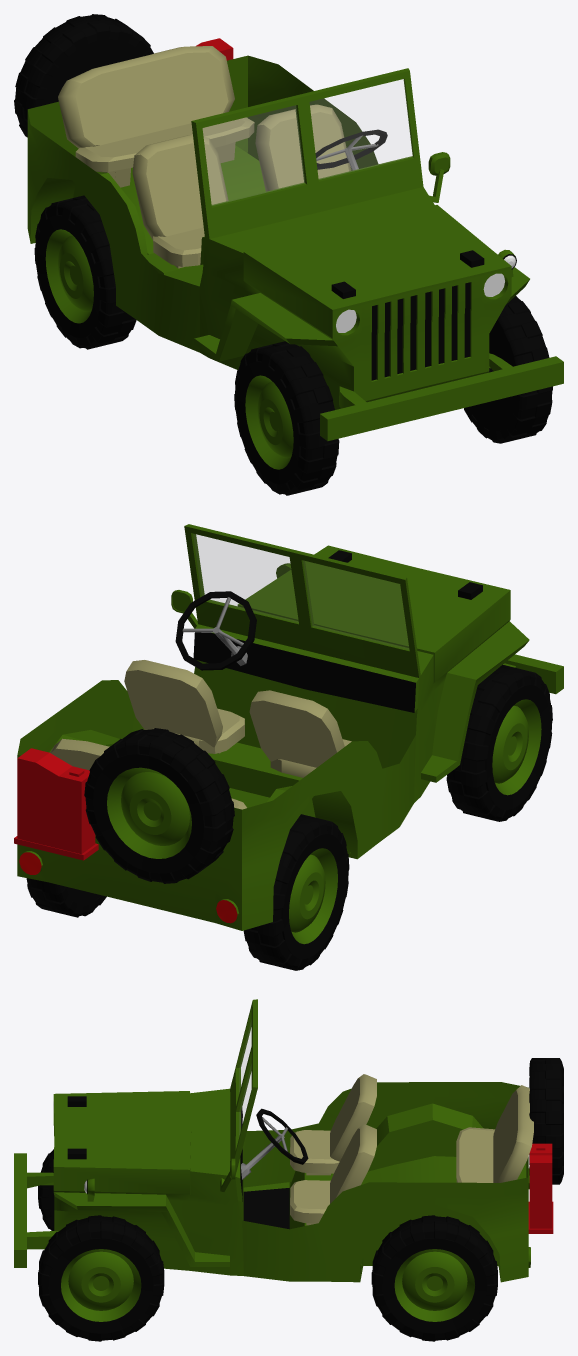
The model's file is Willys military.2.fbx.
3 views of the same model, one above another, from view 1: azimuth 30°, elevation 25°; view 2: azimuth 150°, elevation 25°; view 3: azimuth 270°, elevation 25° (orthographic). The views are drawn at different scales.
Visible parts, largest first — view 1: body, chair back, glass, chairs front, front wheels right, back wheels right, back wheel, front wheels left, car wheel, mirror; view 2: body, back wheel, chairs front, glass, front wheels right, back wheels right, canister, car wheel, back wheels left, chair back; view 3: body, back wheels left, front wheels left, chairs front, chair back, back wheel, canister, car wheel, front wheels right, glass.
Boxes of the visible parts, left/top/right/bottom form: body: left=27, top=55, right=563, bottom=441; chair back: left=58, top=46, right=254, bottom=187; glass: left=203, top=79, right=412, bottom=205; chairs front: left=132, top=104, right=351, bottom=268; front wheels right: left=234, top=341, right=339, bottom=495; back wheels right: left=34, top=195, right=136, bottom=349; back wheel: left=14, top=14, right=153, bottom=137; front wheels left: left=464, top=296, right=552, bottom=443; car wheel: left=315, top=129, right=387, bottom=170; mirror: left=428, top=152, right=450, bottom=202; body: left=17, top=524, right=563, bottom=930; back wheel: left=84, top=728, right=234, bottom=883; chairs front: left=124, top=660, right=351, bottom=777; glass: left=193, top=534, right=408, bottom=649; front wheels right: left=446, top=664, right=552, bottom=821; back wheels right: left=243, top=814, right=349, bottom=970; canister: left=14, top=748, right=98, bottom=860; car wheel: left=175, top=591, right=256, bottom=670; back wheels left: left=26, top=878, right=106, bottom=917; chair back: left=50, top=738, right=246, bottom=809; body: left=14, top=999, right=530, bottom=1282; back wheels left: left=371, top=1215, right=497, bottom=1341; front wheels left: left=38, top=1215, right=164, bottom=1341; chairs front: left=290, top=1074, right=376, bottom=1225; chair back: left=456, top=1085, right=533, bottom=1182; back wheel: left=529, top=1058, right=563, bottom=1184; canister: left=528, top=1143, right=553, bottom=1233; car wheel: left=241, top=1108, right=308, bottom=1179; front wheels right: left=38, top=1149, right=54, bottom=1230; glass: left=239, top=1024, right=250, bottom=1134.
Size of the model in its own units: 132 by 144 by 288.
